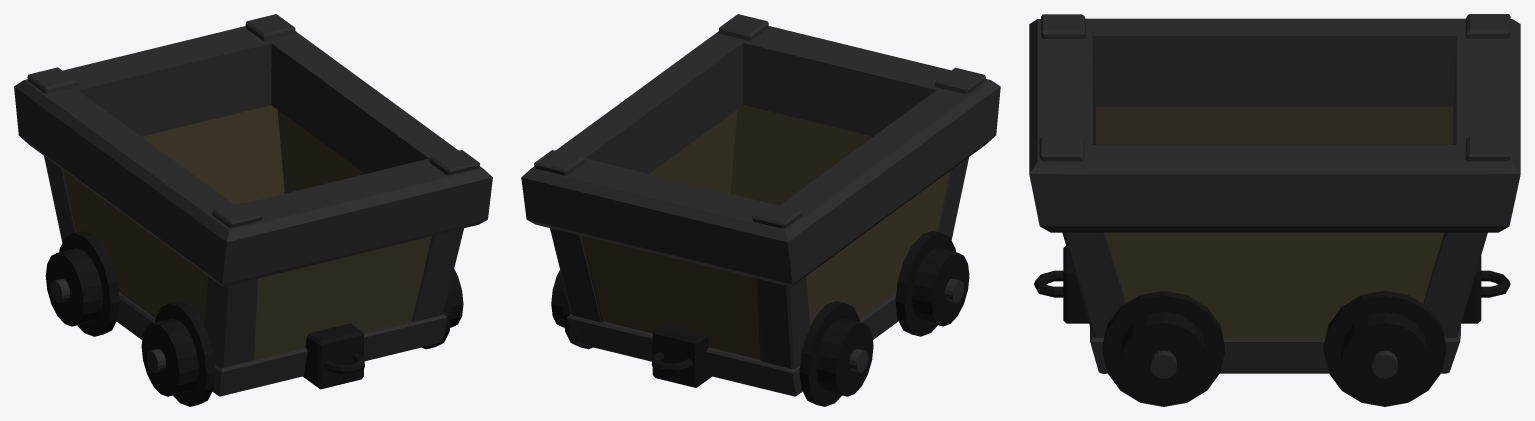
File: Chariot.FBX
3 renders of one model, left to right at view 1: azimuth 30°, elevation 25°; view 2: azimuth 150°, elevation 25°; view 3: azimuth 270°, elevation 25°, orthographic. The views are drawn at different scales.
Parts seen in each view (by area): view 1: Chariot; view 2: Chariot; view 3: Chariot.
Boxes of the visible parts, <box> form: Chariot: <box>14,14,492,406</box>; Chariot: <box>521,14,1000,406</box>; Chariot: <box>1029,14,1520,406</box>.
Bounding box in the file's own units: 0.972 × 0.6805 × 1.19.
